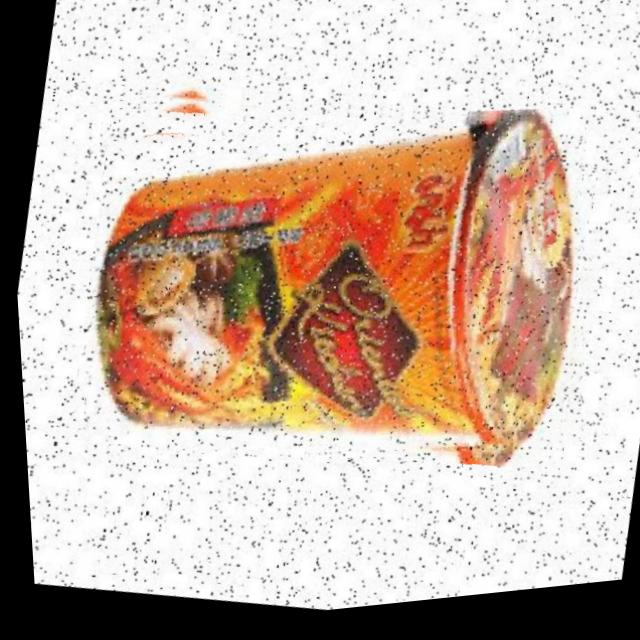Miscellaneous: (45, 41, 629, 536)
